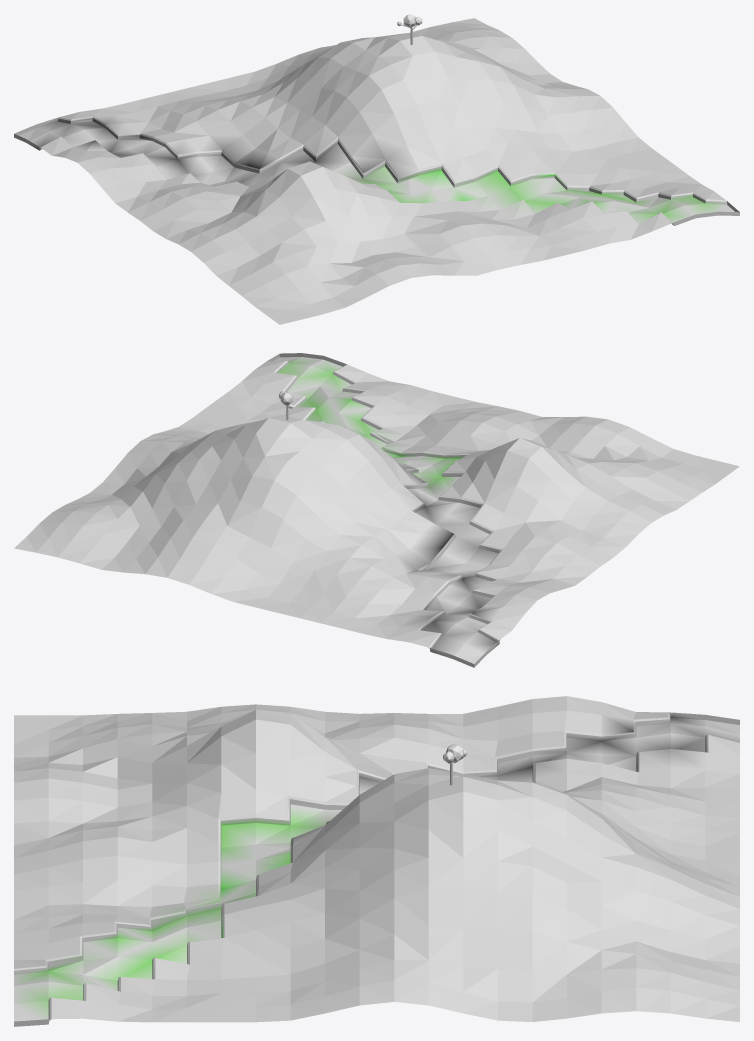
The model's file is yard.fbx.
The picture shows the model from 3 angles, top to bottom: view 1: azimuth 30°, elevation 25°; view 2: azimuth 150°, elevation 25°; view 3: azimuth 270°, elevation 25°; orthographic projection. The views are drawn at different scales.
Parts seen in each view (by area): view 1: Cube.001; view 2: Cube.001; view 3: Cube.001.
Part boxes in pixels (left/top/right/bottom): Cube.001: left=14, top=18, right=739, bottom=324; Cube.001: left=14, top=353, right=739, bottom=667; Cube.001: left=14, top=696, right=739, bottom=1026.
Bounding box in the file's own units: 1204 × 320 × 1204.
